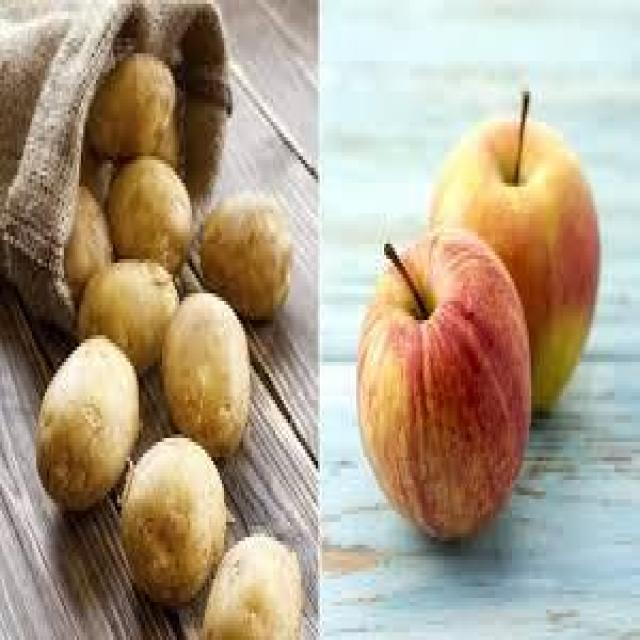maca: (34, 8, 303, 636), (426, 88, 602, 415), (354, 225, 531, 541)
